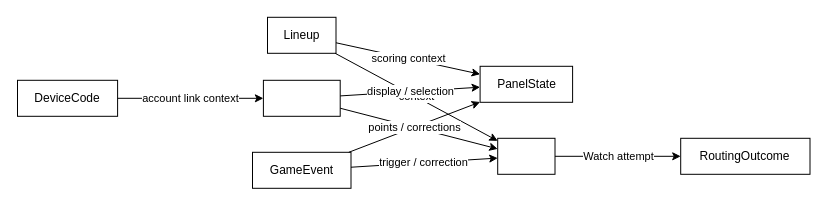
Image size: 828x206. Some labels were removed from this diagram. Each missing label, with the box of its shape:
Alert: (497, 137, 555, 174)
Settings: (262, 79, 340, 116)
